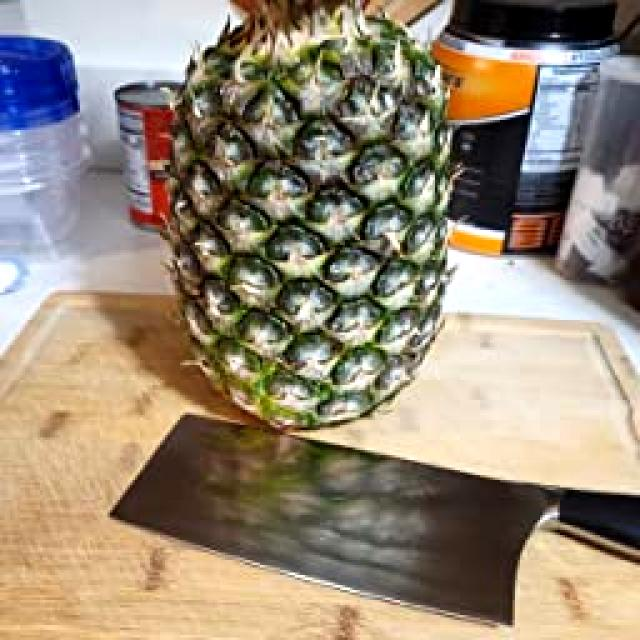cleaver: (107, 410, 640, 615)
